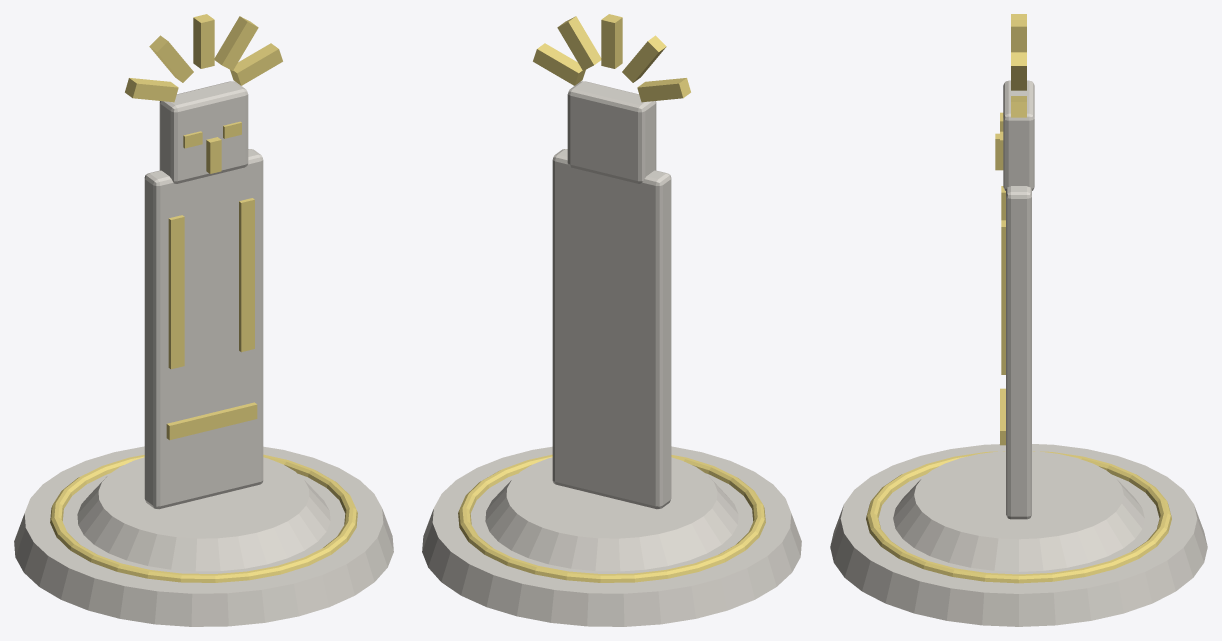
The model's file is MuseoDelOro_Alfil.fbx.
The picture shows the model from 3 angles, left to right: view 1: azimuth 30°, elevation 25°; view 2: azimuth 150°, elevation 25°; view 3: azimuth 270°, elevation 25°; orthographic projection.
Parts seen in each view (by area): view 1: MuseoDelOro_Alfil; view 2: MuseoDelOro_Alfil; view 3: MuseoDelOro_Alfil.
Part boxes in pixels (box(x1,y1,x2,y2)): MuseoDelOro_Alfil: box(14, 14, 393, 626); MuseoDelOro_Alfil: box(422, 14, 801, 626); MuseoDelOro_Alfil: box(830, 14, 1207, 626).
Bounding box in the file's own units: 0.72 × 1.1 × 0.72.
